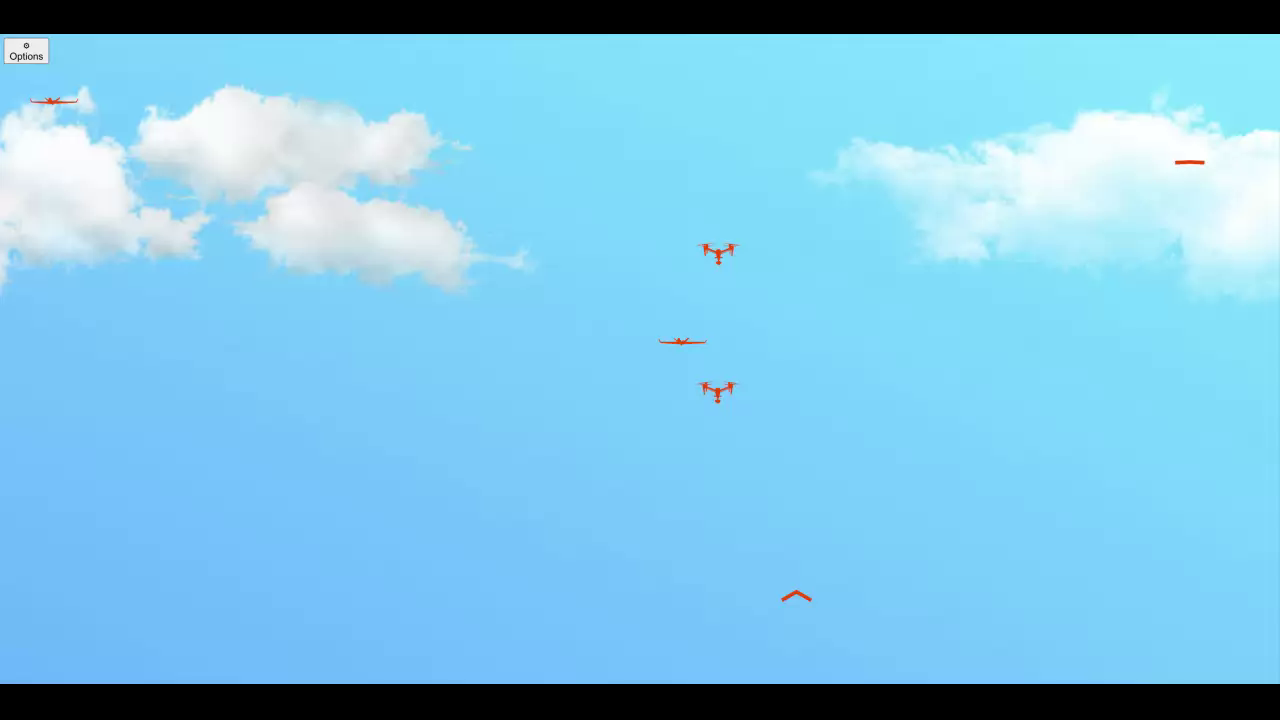Bird: (1160, 142, 1219, 180), (765, 572, 824, 605)
Drone: (24, 85, 93, 122), (652, 323, 725, 355)
Quadcopter: (686, 231, 758, 273), (691, 365, 751, 408)
